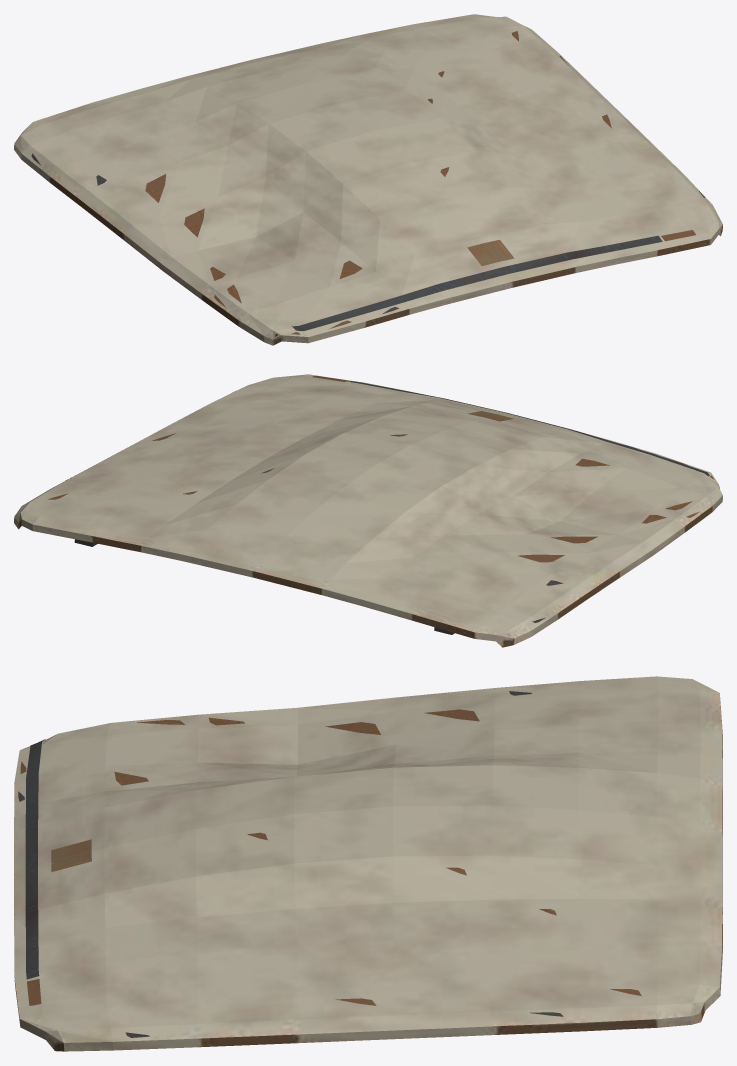
The model's file is JV14_detached_car_hood_v1.glb.
The picture shows the model from 3 angles, top to bottom: view 1: azimuth 30°, elevation 25°; view 2: azimuth 150°, elevation 25°; view 3: azimuth 270°, elevation 25°; orthographic projection. The views are drawn at different scales.
Parts seen in each view (by area): view 1: Detached hood; view 2: Detached hood; view 3: Detached hood.
Part boxes in pixels (x1,y1,x2,y2): Detached hood: (14, 14, 722, 345); Detached hood: (14, 374, 722, 647); Detached hood: (14, 676, 722, 1051).
Size of the model in its own units: 1.4 by 0.1845 by 1.23.
Materials: 5 (5 with a texture image).
